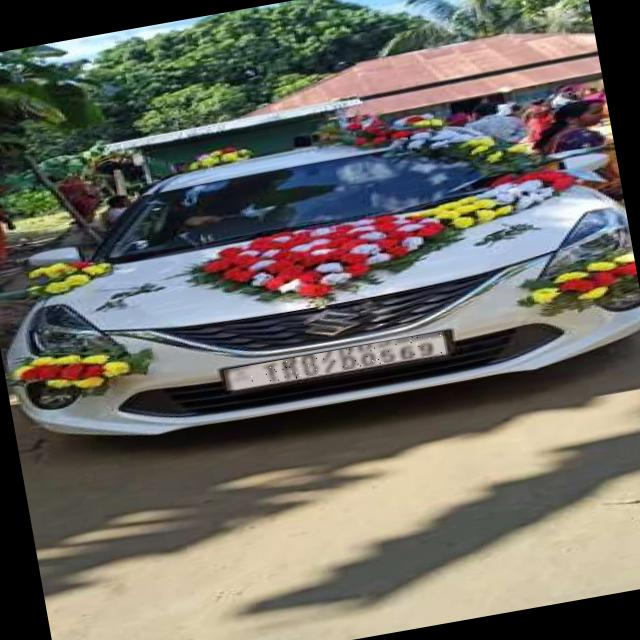Plate: (225, 332, 447, 391)
